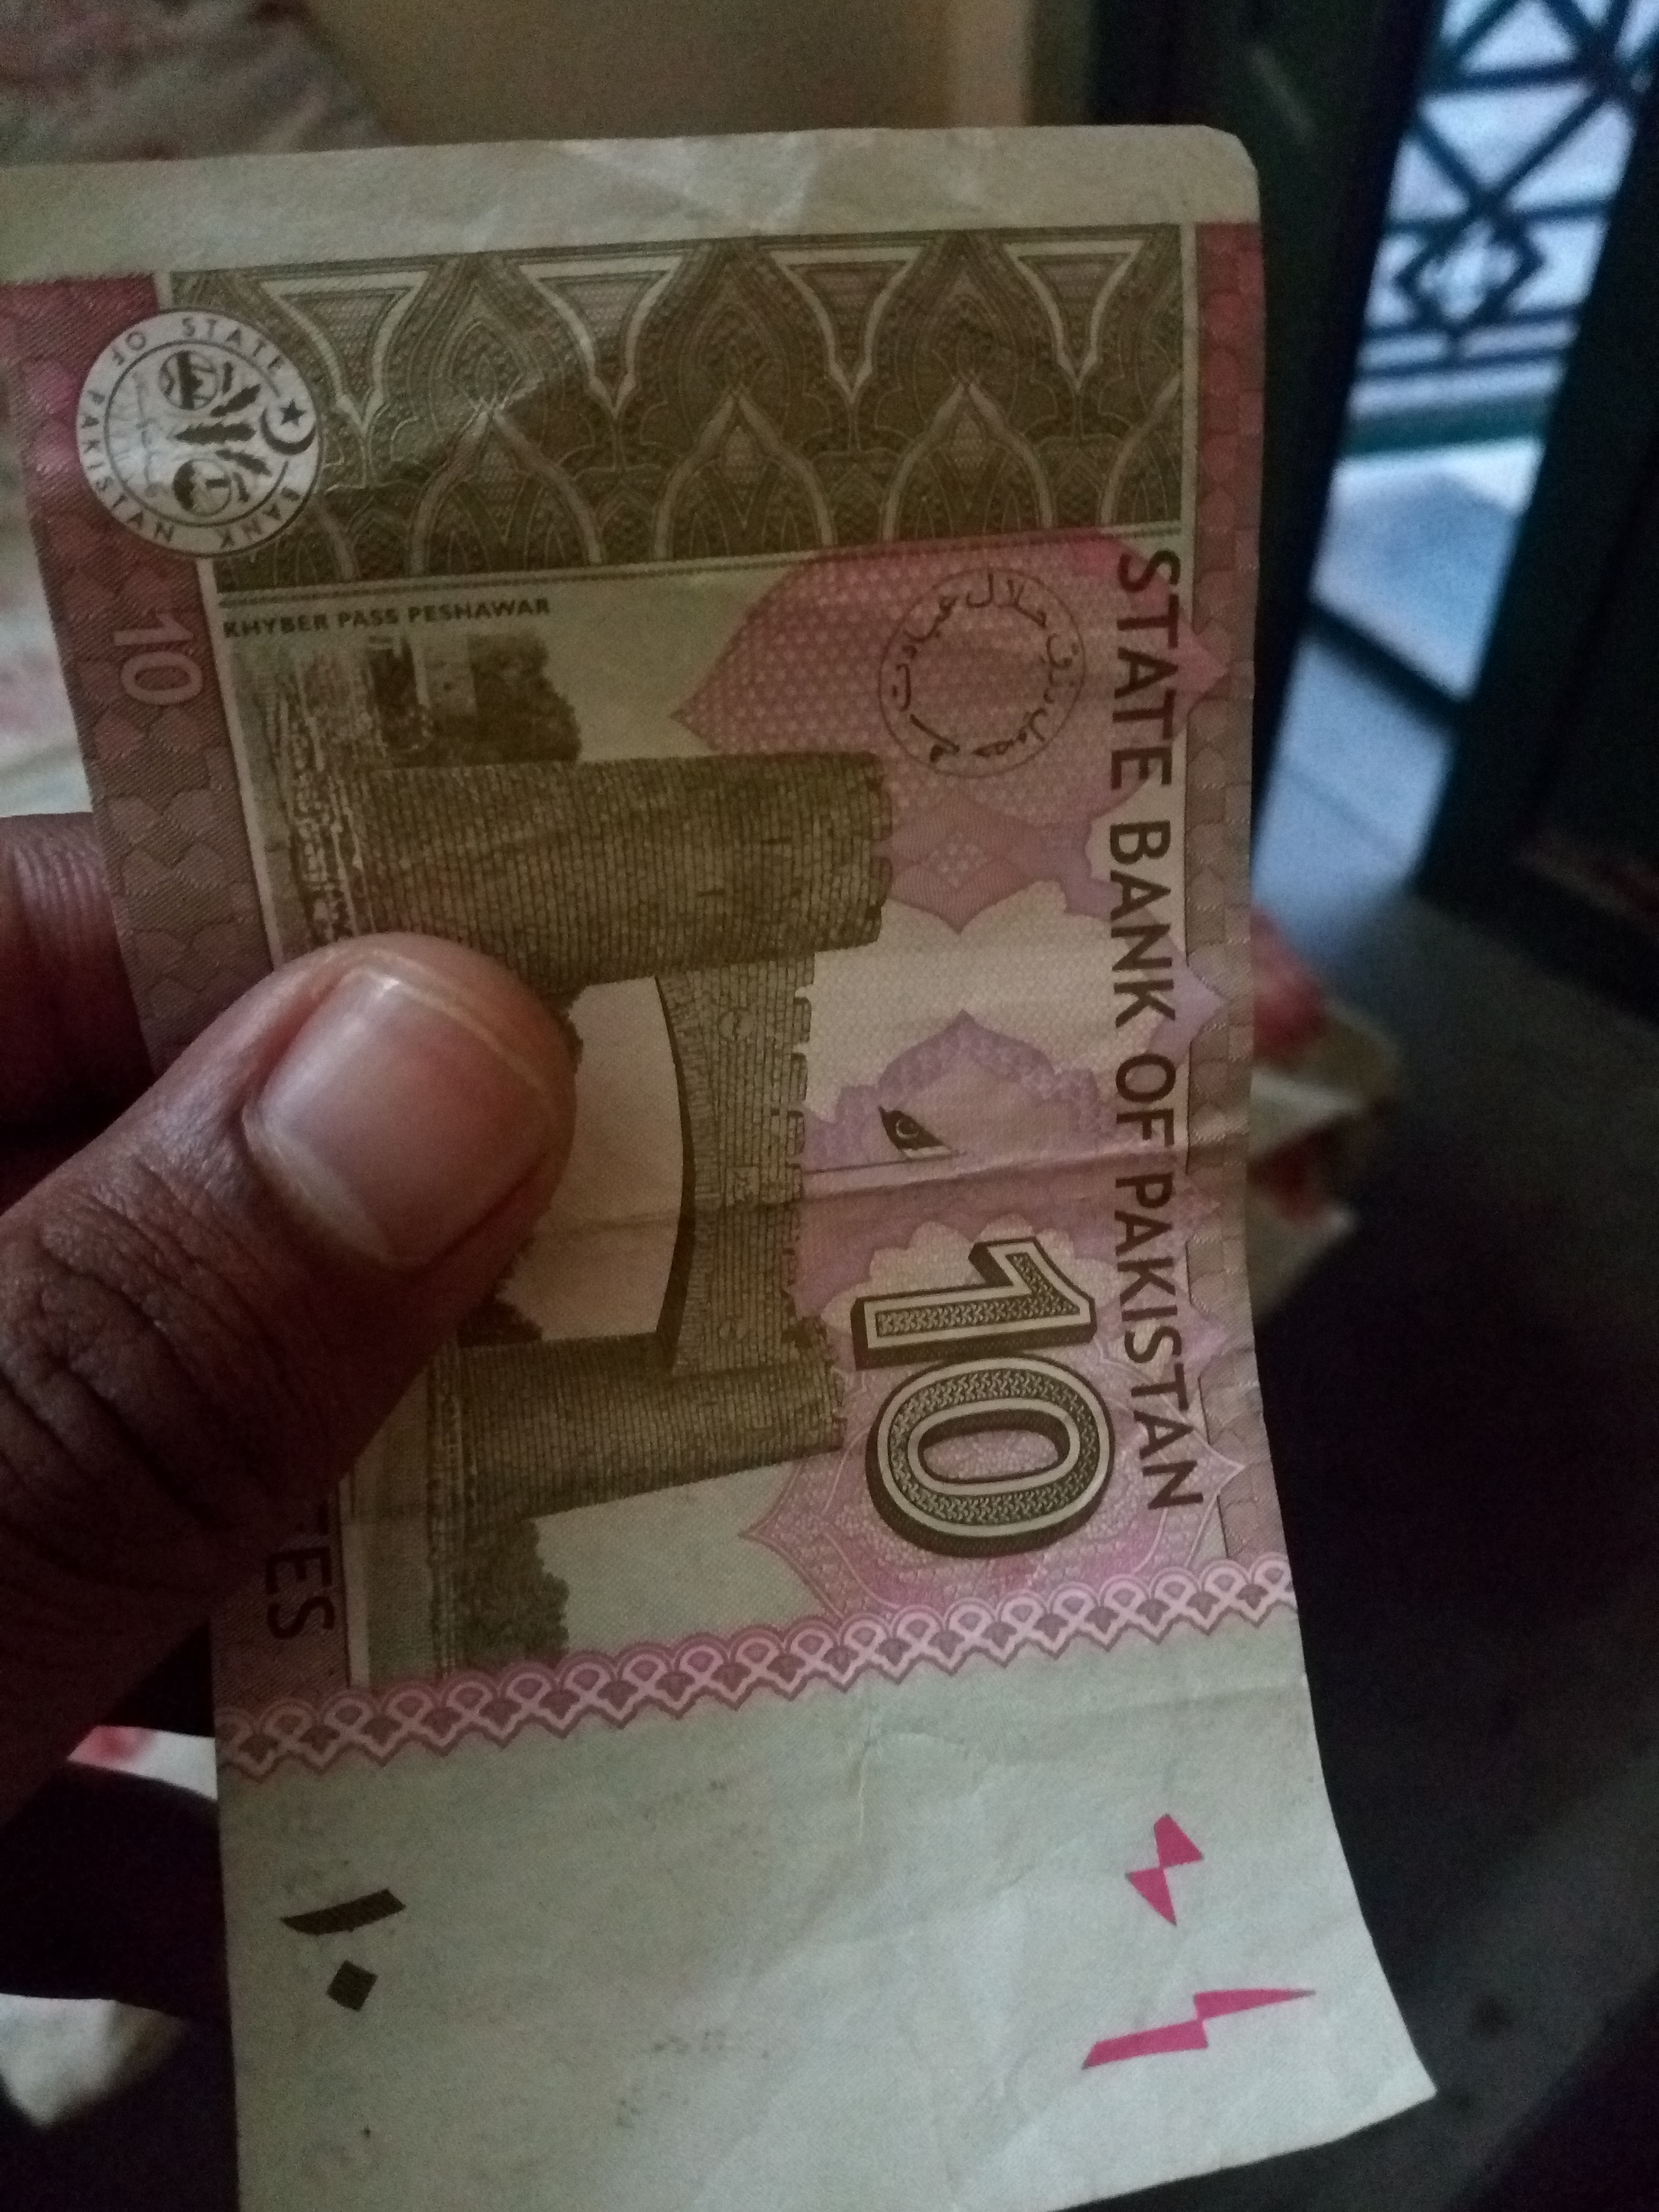10 rupee: (49, 108, 1499, 2212)
